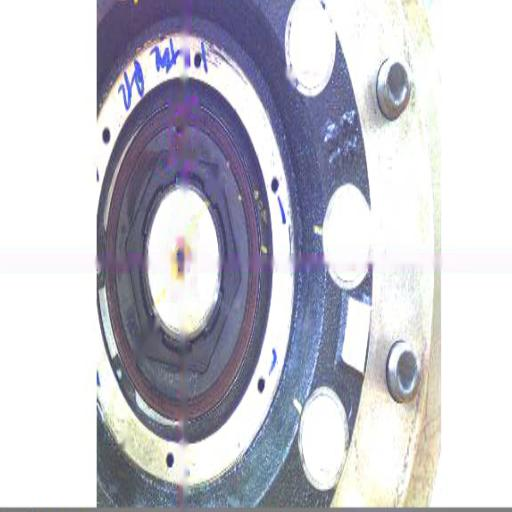center: (169, 242, 190, 286)
notch: (170, 119, 186, 140)
